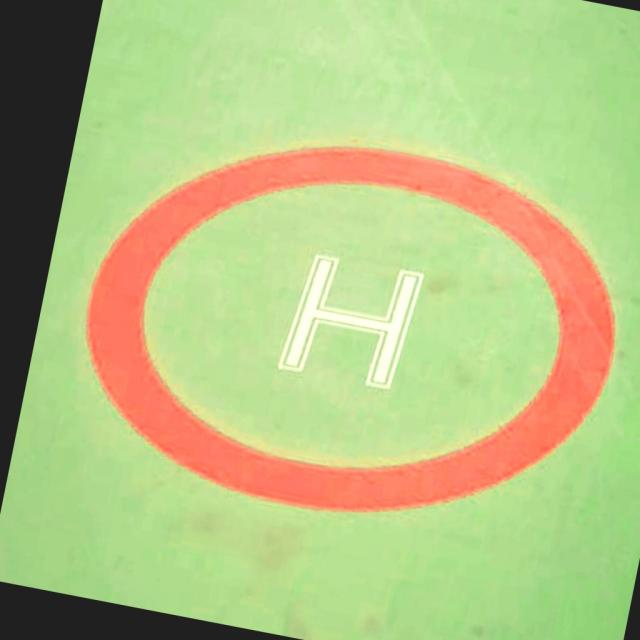helipad: (80, 137, 620, 518)
